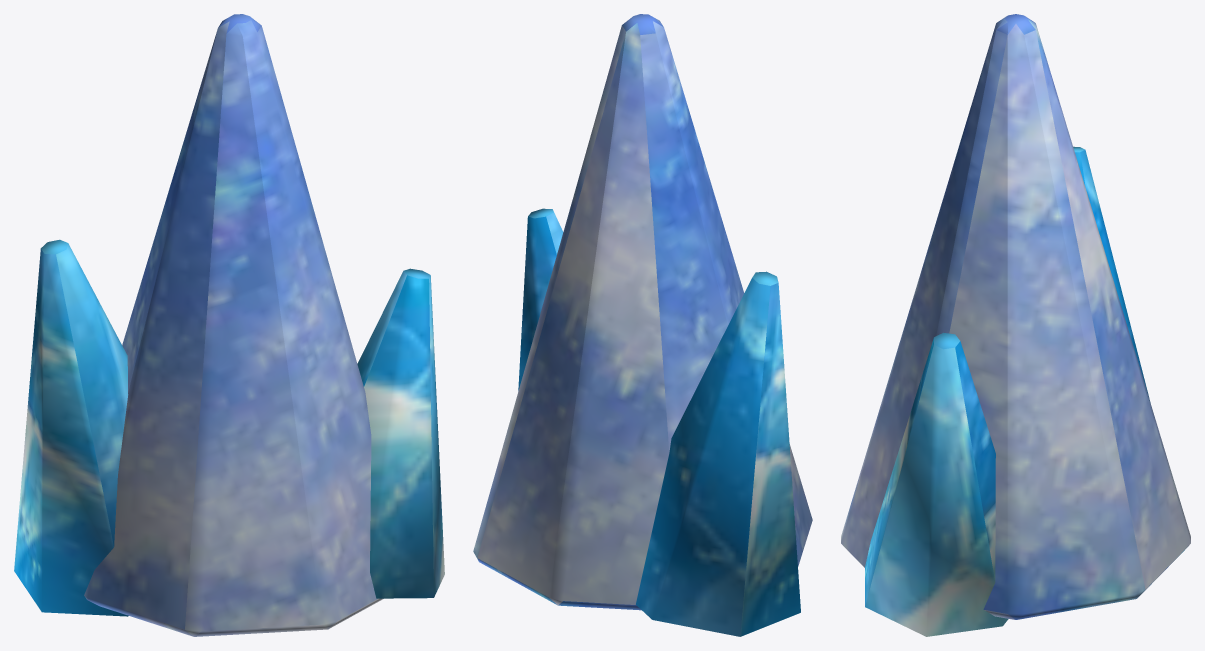
The model's file is deco_hielo_hito.glb.
3 renders of one model, left to right at view 1: azimuth 30°, elevation 25°; view 2: azimuth 150°, elevation 25°; view 3: azimuth 270°, elevation 25°, orthographic. The views are drawn at different scales.
Parts seen in each view (by area): view 1: deco_hielo_hito; view 2: deco_hielo_hito; view 3: deco_hielo_hito.
Boxes of the visible parts, <box> form: deco_hielo_hito: <box>14,14,444,636</box>; deco_hielo_hito: <box>473,14,812,636</box>; deco_hielo_hito: <box>841,14,1190,636</box>.
Size of the model in its own units: 0.6336 by 1 by 0.5828.
2 materials, 2 textured.
